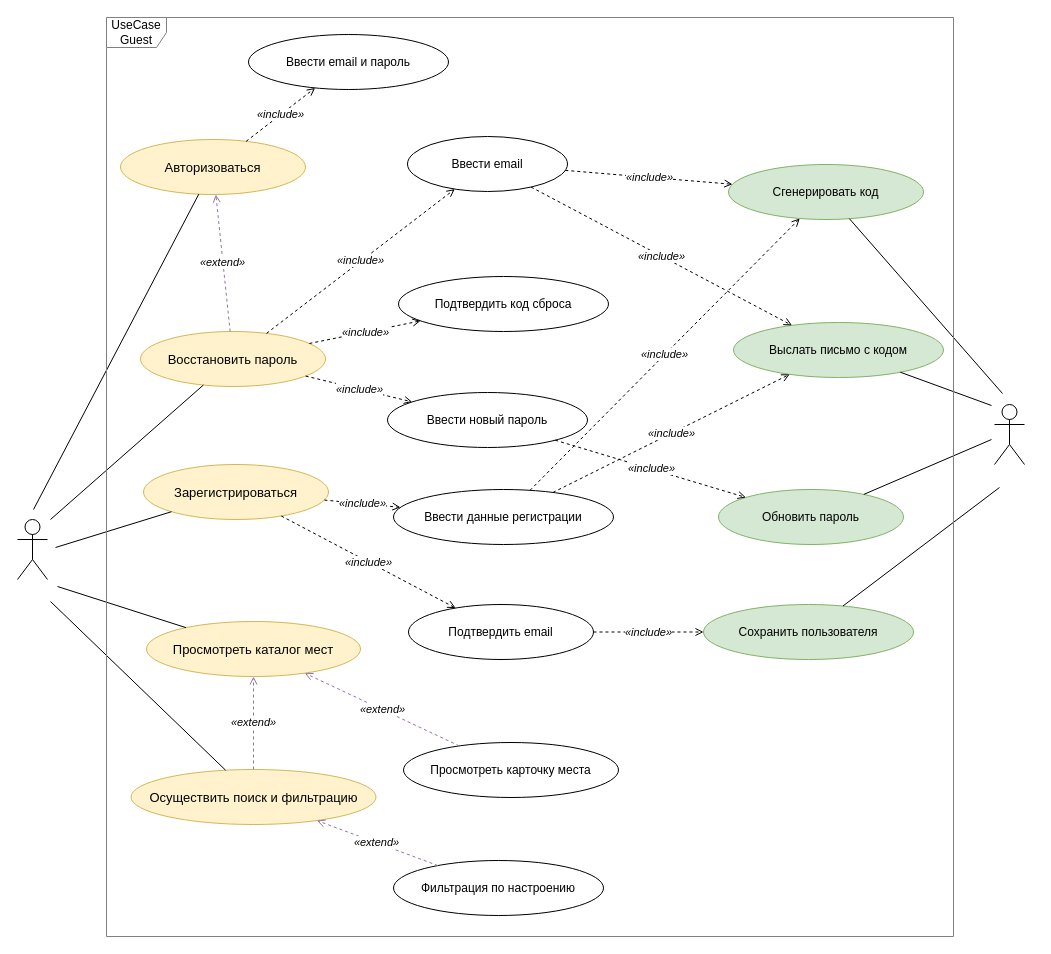
The diagram is 1051 pixels wide and 954 high, and some of its shapes have lost their labels. The shapes that lost their labels are listed below. From the top down, each one's centre as x and y in pixels, then its label:
At (x=1009, y=434): "Система".
At (x=32, y=549): "Гость".
